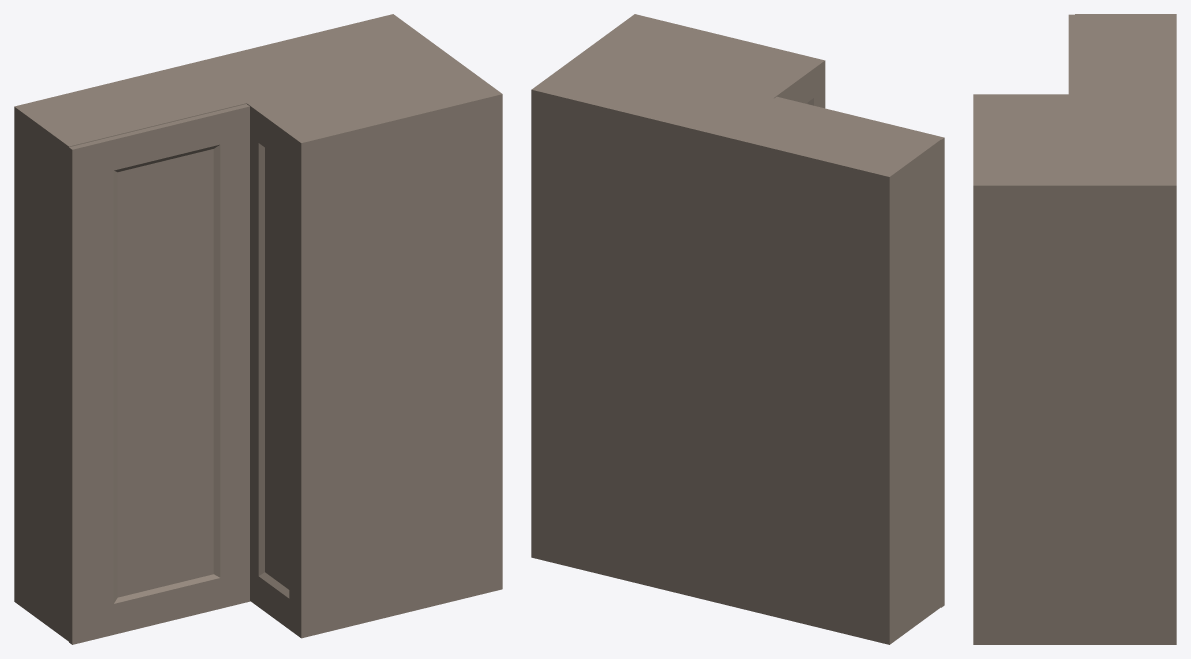
Rendered from Wall-Cabinet-Easy-Reach-12-Deep.std.glb.
3 views of the same model, side by side, from view 1: azimuth 30°, elevation 25°; view 2: azimuth 150°, elevation 25°; view 3: azimuth 270°, elevation 25° (orthographic). The views are drawn at different scales.
Parts seen in each view (by area): view 1: Wall-Cabinet-Easy-Reach-12-Deep.std.001; view 2: Wall-Cabinet-Easy-Reach-12-Deep.std.001; view 3: Wall-Cabinet-Easy-Reach-12-Deep.std.001.
Part boxes in pixels (x1,y1,x2,y2): Wall-Cabinet-Easy-Reach-12-Deep.std.001: [14, 14, 502, 644]; Wall-Cabinet-Easy-Reach-12-Deep.std.001: [531, 14, 944, 644]; Wall-Cabinet-Easy-Reach-12-Deep.std.001: [973, 14, 1176, 644].
Bounding box in the file's own units: 0.6096 × 0.762 × 0.3048.
